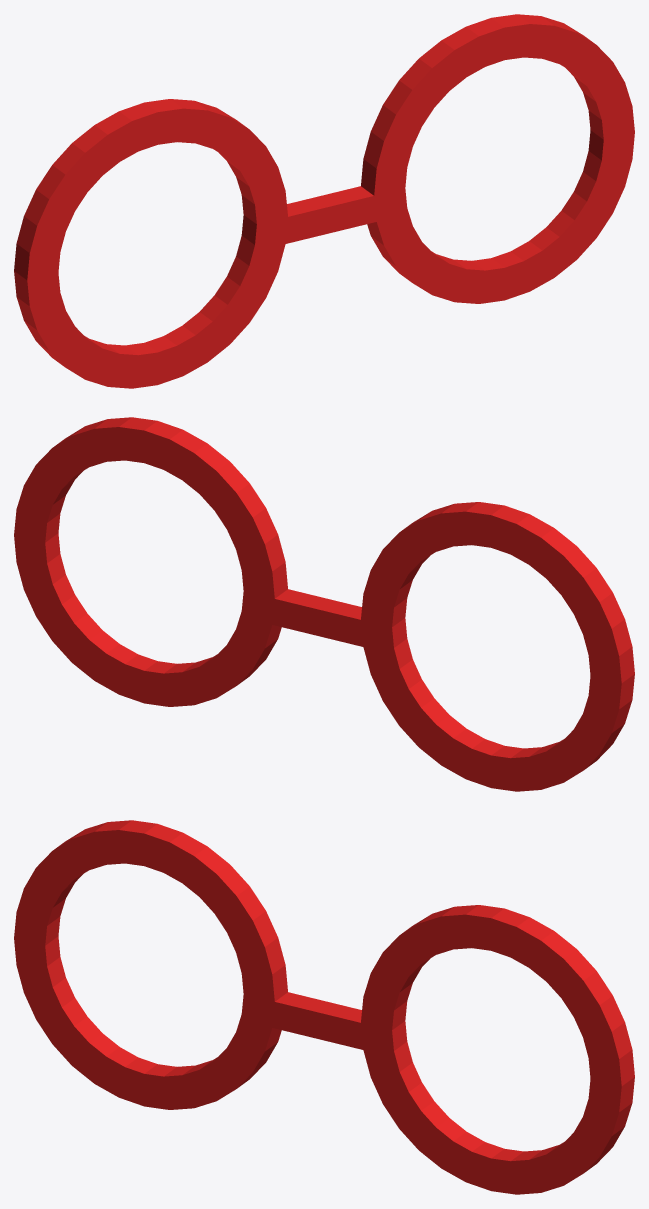
File: glassees.fbx
3 renders of one model, top to bottom at view 1: azimuth 30°, elevation 25°; view 2: azimuth 150°, elevation 25°; view 3: azimuth 330°, elevation 25°, orthographic.
Visible parts, largest first — view 1: 円.002; view 2: 円.002; view 3: 円.002.
Boxes of the visible parts, bbox=[...] form: 円.002: bbox=[14, 14, 634, 388]; 円.002: bbox=[14, 417, 634, 791]; 円.002: bbox=[14, 820, 634, 1194].
Size of the model in its own units: 78.22 by 33.57 by 2.96.
